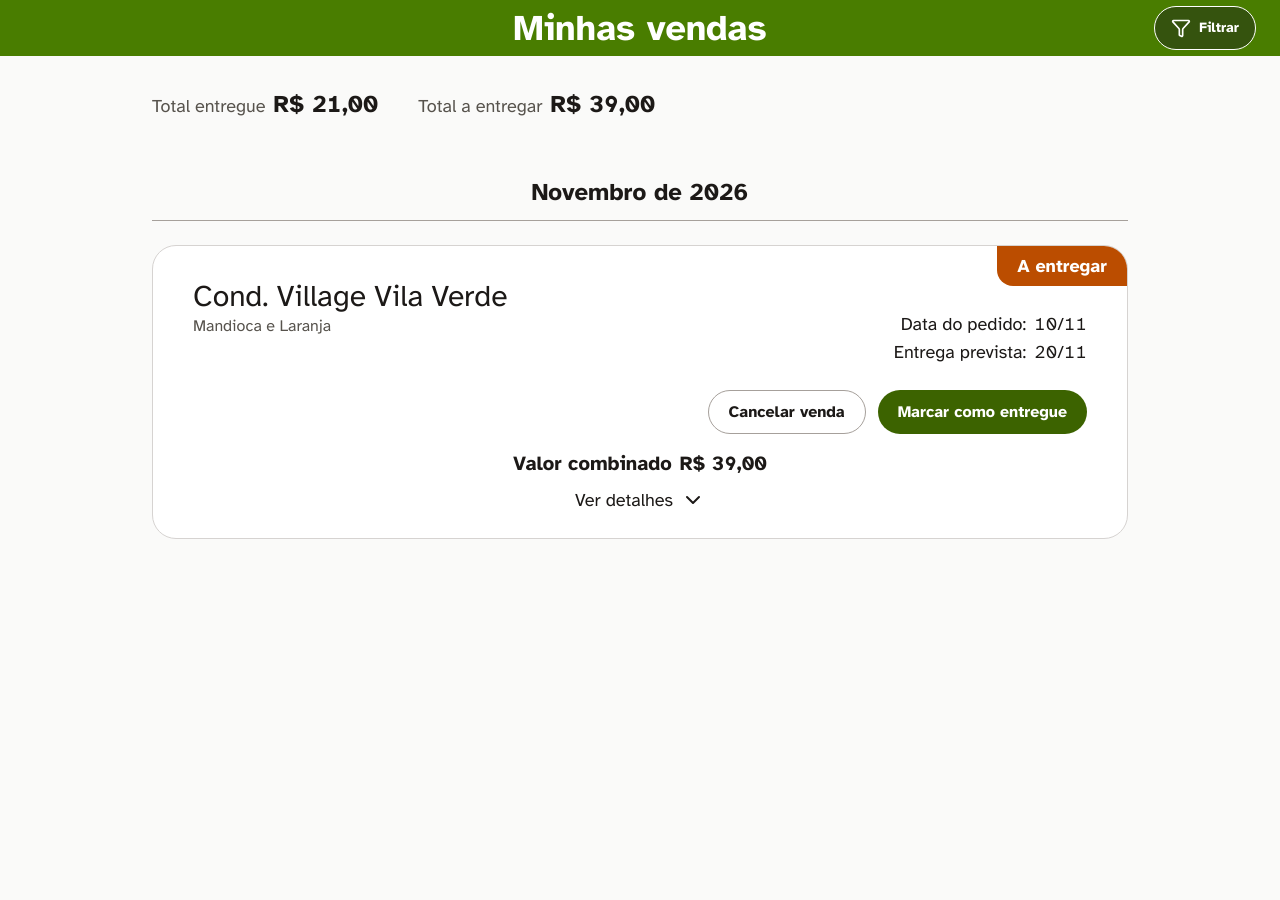
MySales › opens the items of a sale
The image size is (1280, 900).
Click the button "Ver detalhes". click: (640, 500)
box: [559, 478, 721, 522]
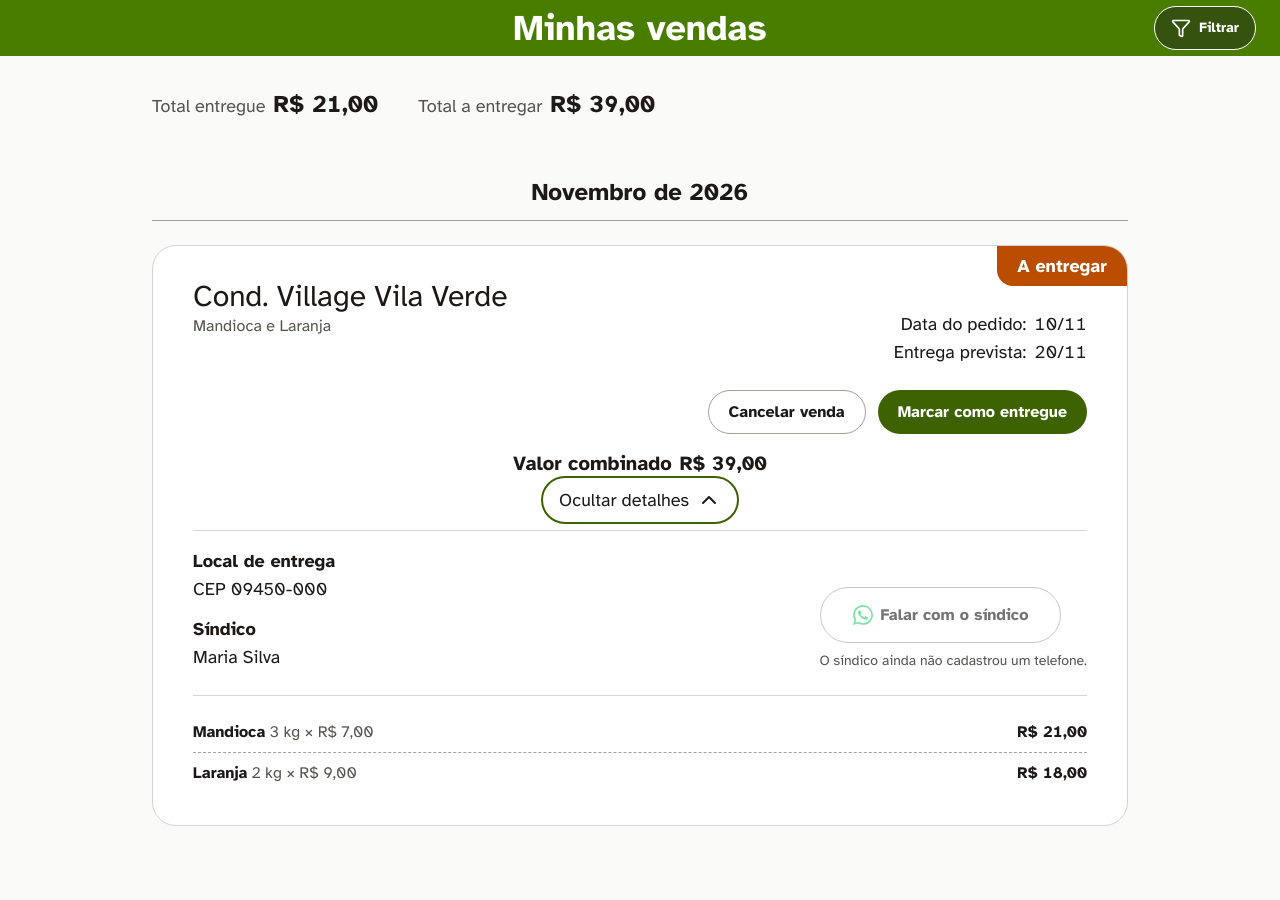
Expected: the text "3 kg × R$ 7,00" is shown, [270, 722, 374, 742]
